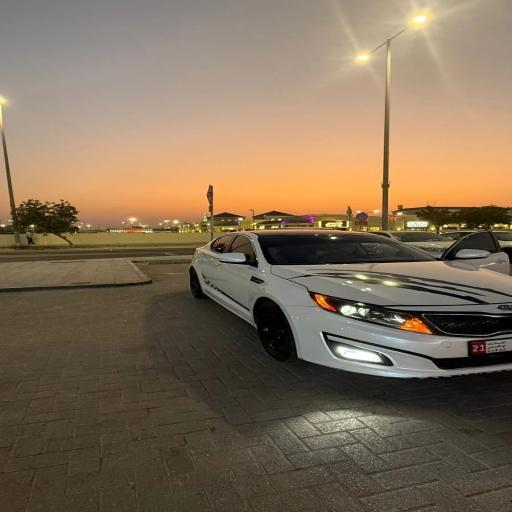license-plates: (470, 339, 511, 355)
